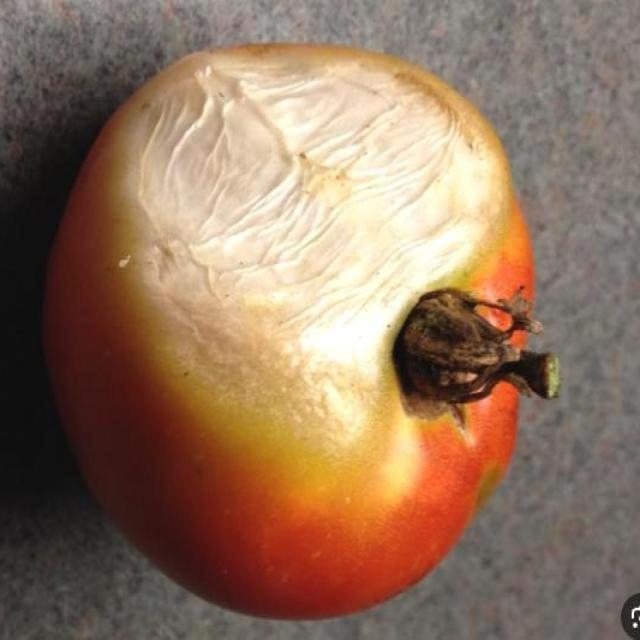Sunscald Fruit: (64, 29, 343, 296)
